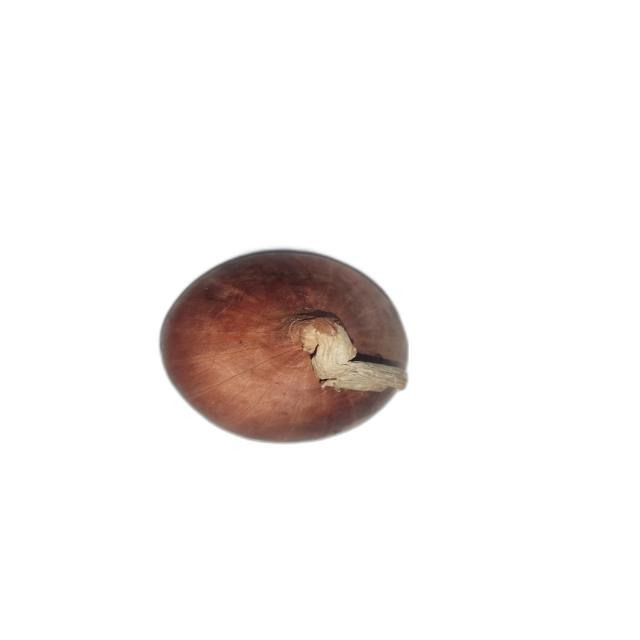onion: (157, 247, 412, 445)
